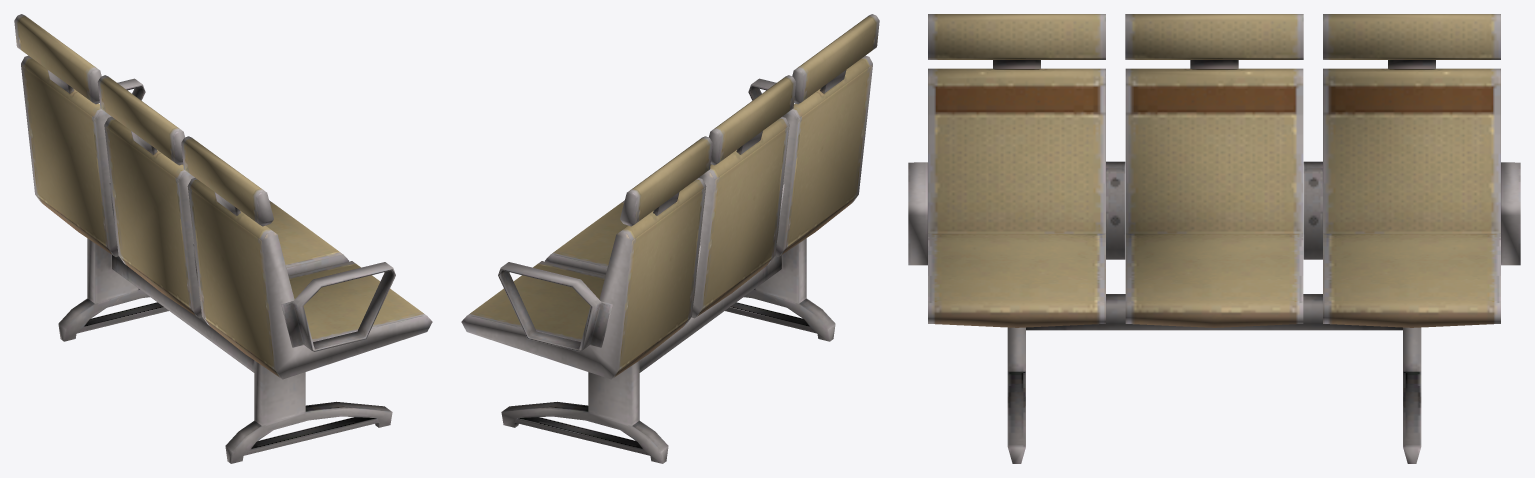
Rendered from Bench03.FBX.
The picture shows the model from 3 angles, left to right: view 1: azimuth 30°, elevation 25°; view 2: azimuth 150°, elevation 25°; view 3: azimuth 270°, elevation 25°; orthographic projection. The views are drawn at different scales.
Parts seen in each view (by area): view 1: Bench03; view 2: Bench03; view 3: Bench03.
Boxes of the visible parts, x1,y1,x2,y2 form: Bench03: [14, 14, 432, 463]; Bench03: [461, 14, 879, 463]; Bench03: [908, 14, 1520, 463].
Size of the model in its own units: 0.6089 by 0.9881 by 1.55.
